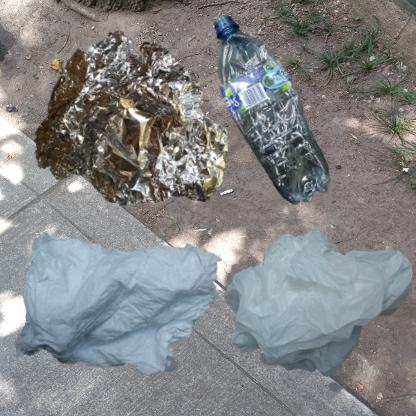aluminio: (10, 10, 249, 245)
bolsa: (213, 213, 416, 401)
botella: (213, 10, 335, 213)
papel: (10, 213, 239, 401)
